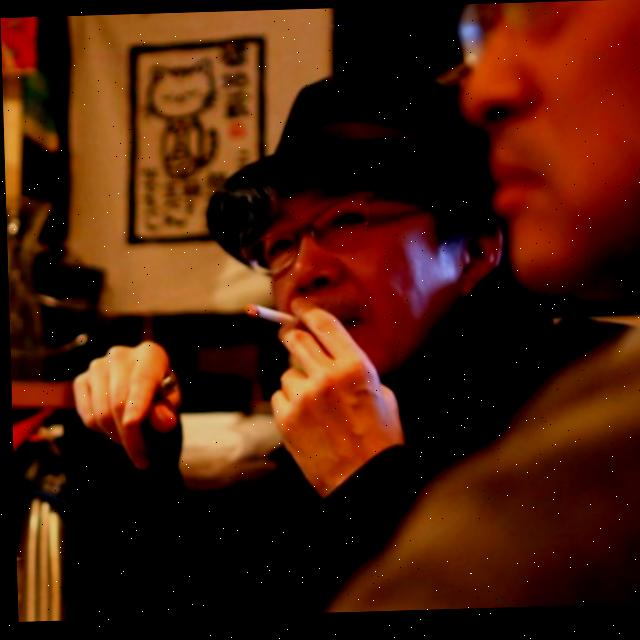cigarette: (243, 305, 296, 331)
